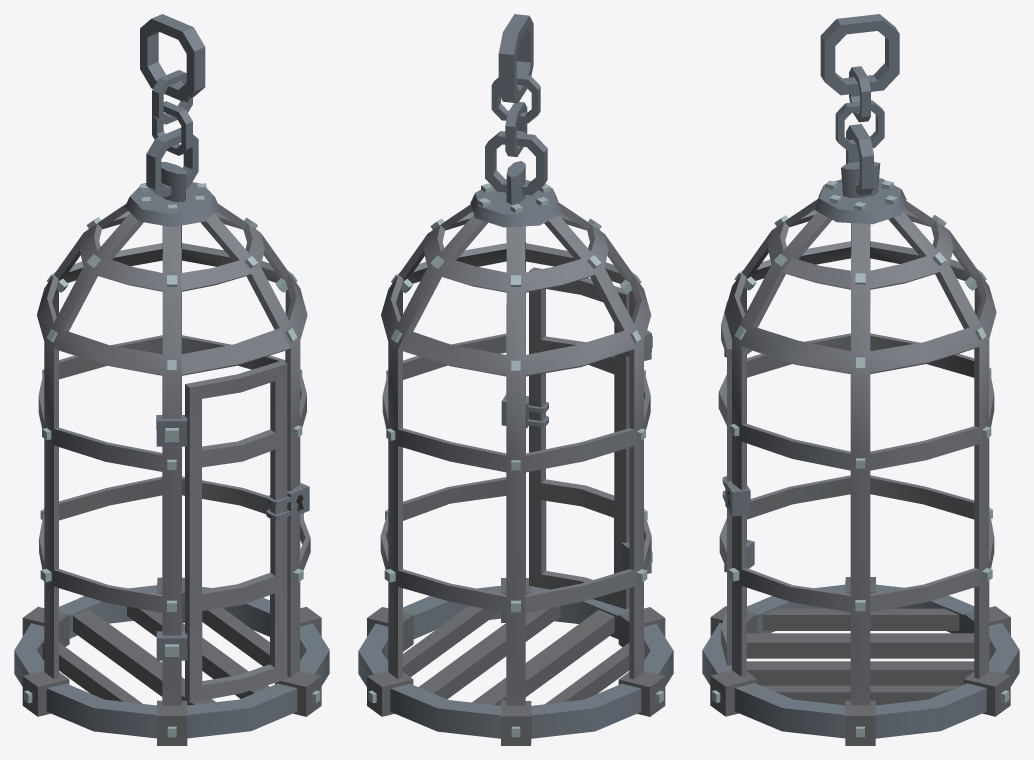
The model's file is x_tortura_medieval_asset_19__cage.glb.
3 renders of one model, left to right at view 1: azimuth 30°, elevation 25°; view 2: azimuth 150°, elevation 25°; view 3: azimuth 270°, elevation 25°, orthographic.
Parts seen in each view (by area): view 1: Object_2; view 2: Object_2; view 3: Object_2.
Part boxes in pixels (x1=…): Object_2: x1=14, y1=14, x2=329, y2=745; Object_2: x1=358, y1=14, x2=673, y2=745; Object_2: x1=702, y1=14, x2=1019, y2=745.
Size of the model in its own units: 0.934 by 2 by 0.8749.
1 material, 1 textured.
